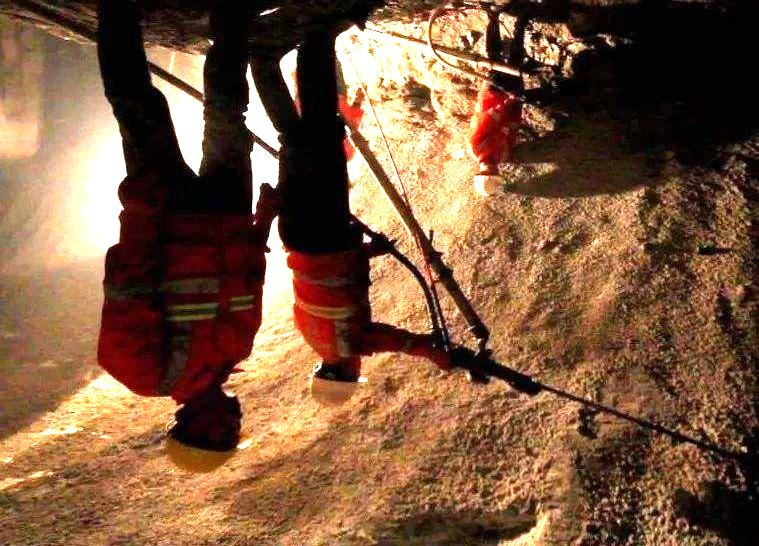helmet: (164, 394, 243, 475), (311, 354, 362, 409), (471, 161, 505, 197)
